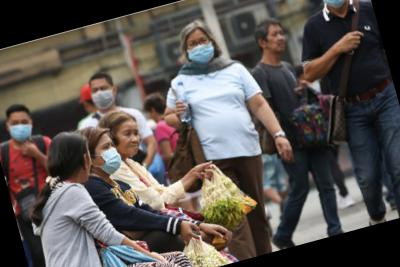with_mask: (93, 138, 126, 179), (185, 33, 220, 68), (7, 115, 37, 146), (89, 82, 119, 112)
without_mask: (113, 126, 146, 160), (262, 26, 290, 56)
